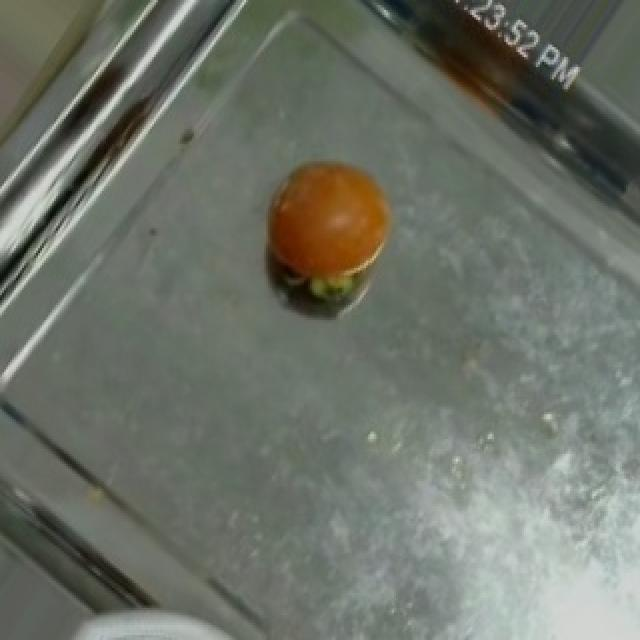Fruit: (252, 146, 412, 308)
